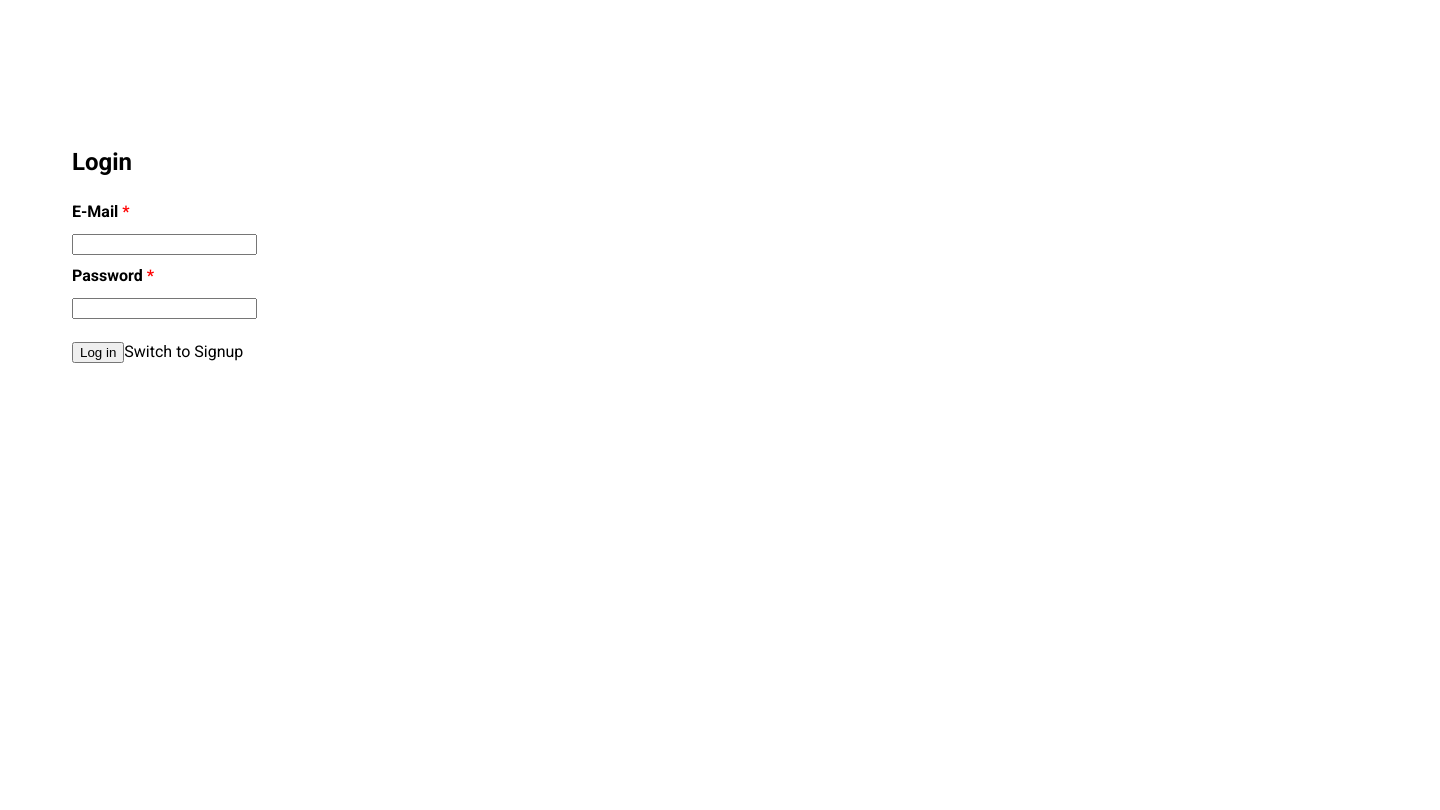
Test: <Authentication /> › Behaviour tests › Loading state management › displays loading dialog during authentication process
This screenshot has width=1440, height=810.
Type "test@example.com" into the field with test id "email-input". click: (164, 244)
box: 72,234 -> 257,255
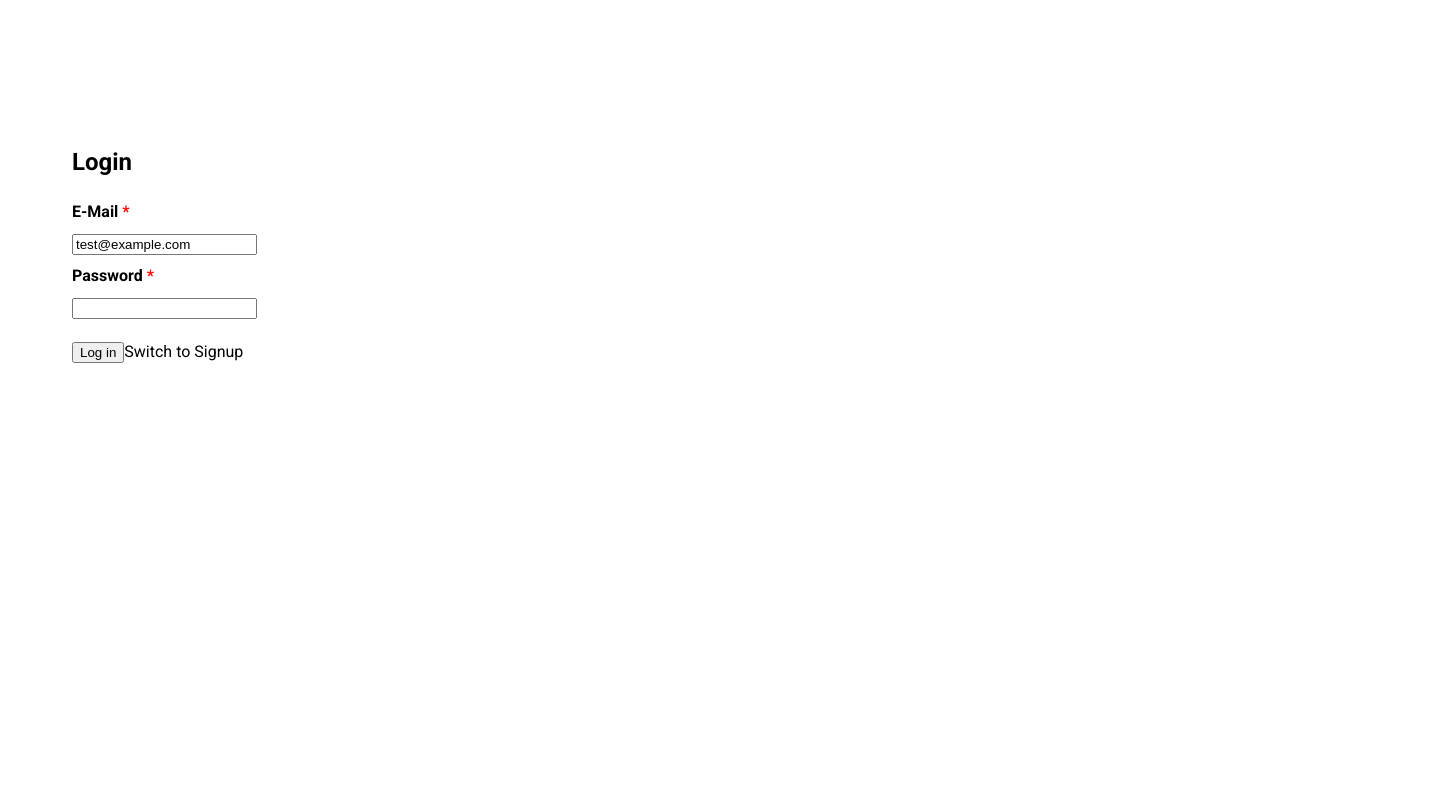
Type "password123" into the password field with test id "password-input". click: (164, 308)
box: 72,298 -> 257,319
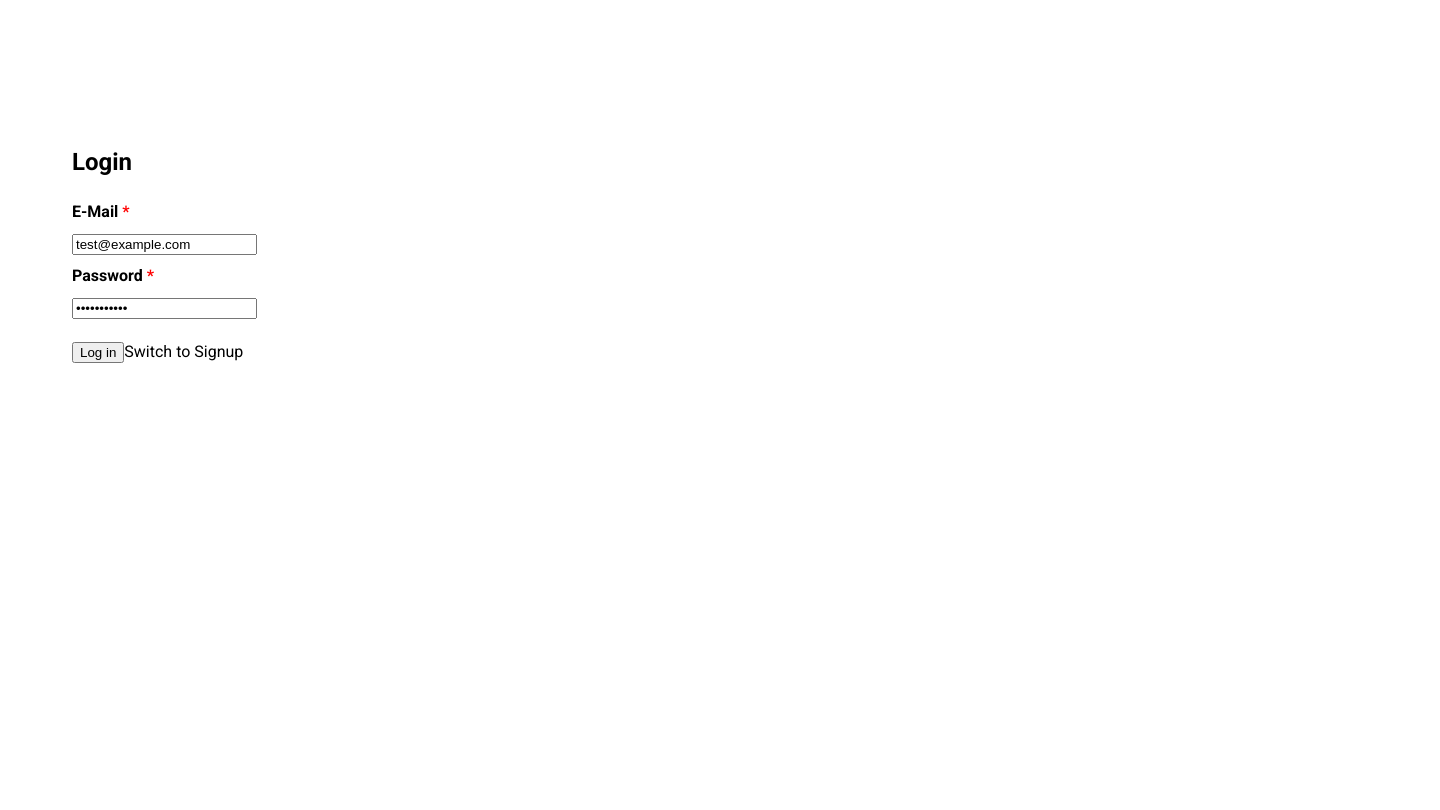
Click the button with test id "login-submit-button". click: click(98, 352)
box: 72,342 -> 124,363
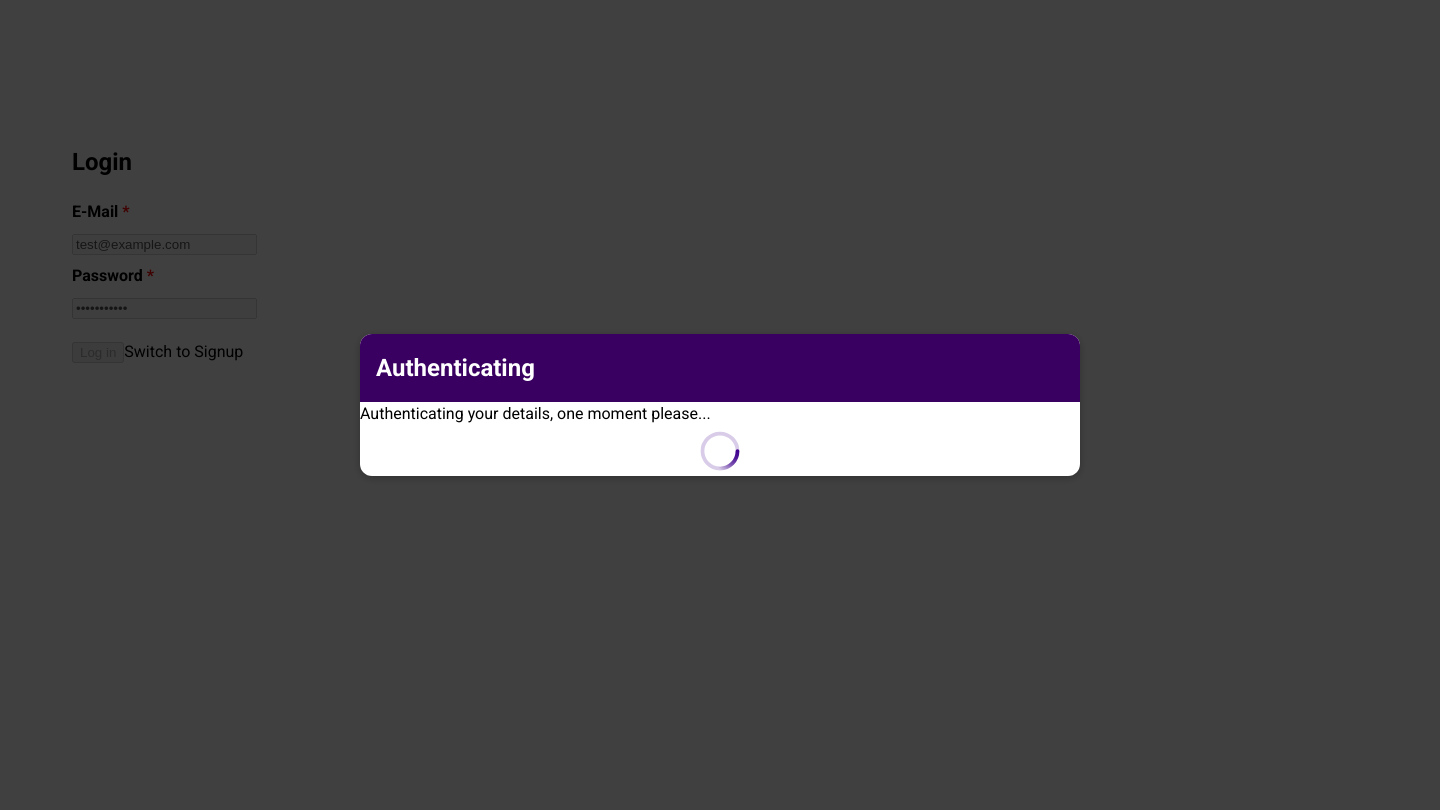
Expected: the dialog with test id "authenticating-dialog" is shown, 360,334 -> 1080,476
Expected: the heading "Authenticating" is shown, 376,354 -> 535,382
Expected: the text "Authenticating your details, one moment please..." is shown, 360,404 -> 745,476
